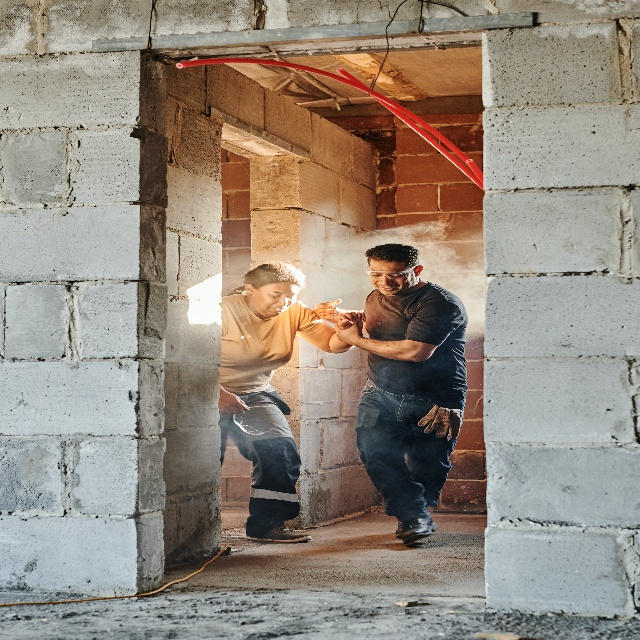Gafas: (366, 265, 416, 280)
Guantes: (432, 406, 463, 441), (418, 403, 438, 435)
Sin_guantes: (218, 385, 250, 415), (333, 323, 363, 347), (313, 299, 342, 320), (338, 312, 364, 332)
